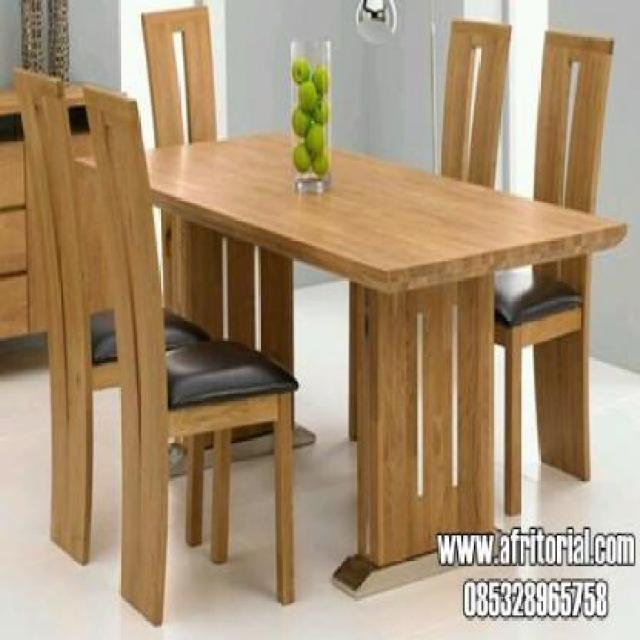tables: (71, 130, 626, 598)
